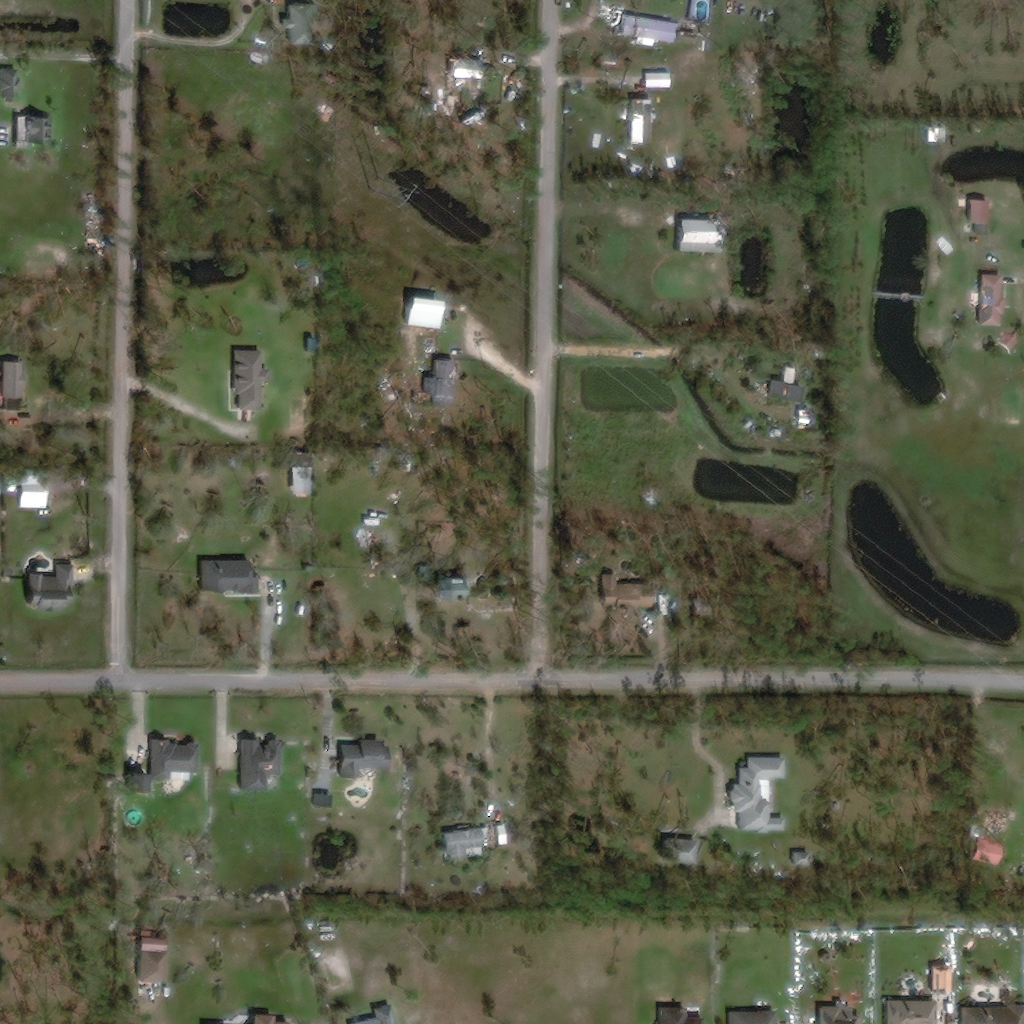destroyed: (979, 809, 1011, 837), (444, 90, 457, 111), (431, 339, 440, 354)
major_damage: (675, 216, 723, 254), (930, 963, 955, 995)
minor_damage: (441, 823, 510, 861), (240, 737, 282, 791), (970, 272, 1007, 326), (629, 98, 654, 146), (768, 379, 805, 403), (433, 360, 445, 379)
no_damage: (729, 755, 786, 834), (23, 556, 75, 609), (150, 735, 200, 780), (234, 350, 270, 411), (598, 573, 650, 614), (200, 557, 257, 593), (340, 737, 389, 778), (619, 14, 683, 43), (132, 929, 167, 981), (402, 294, 440, 329), (15, 115, 52, 149), (883, 999, 935, 1023), (351, 996, 396, 1023), (660, 836, 696, 869), (958, 1005, 1023, 1023), (818, 998, 862, 1023), (21, 473, 49, 508), (3, 360, 29, 397), (595, 0, 617, 42), (658, 1005, 706, 1023), (446, 58, 482, 79), (0, 64, 20, 101), (730, 1009, 777, 1023), (290, 465, 312, 494), (644, 67, 673, 87), (968, 200, 990, 223), (126, 771, 148, 793), (246, 1014, 293, 1023), (317, 786, 333, 807), (928, 126, 946, 143), (782, 366, 797, 382), (369, 459, 382, 476), (257, 52, 269, 63), (304, 81, 313, 90)
